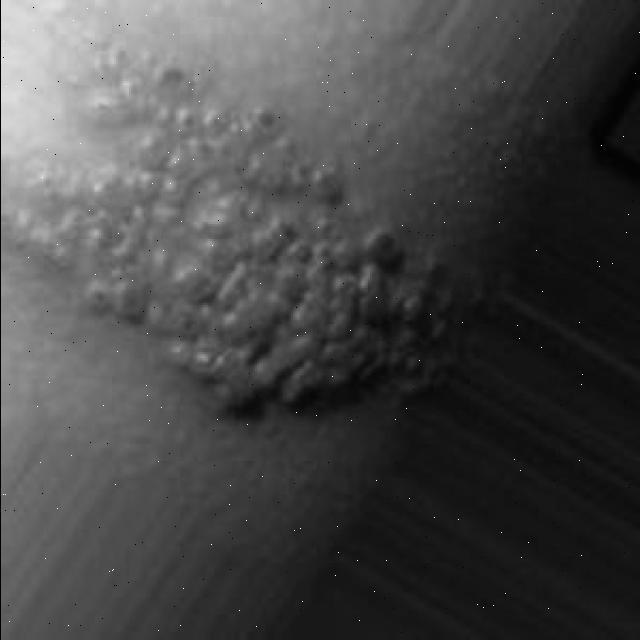Shingles: (12, 37, 446, 410)
